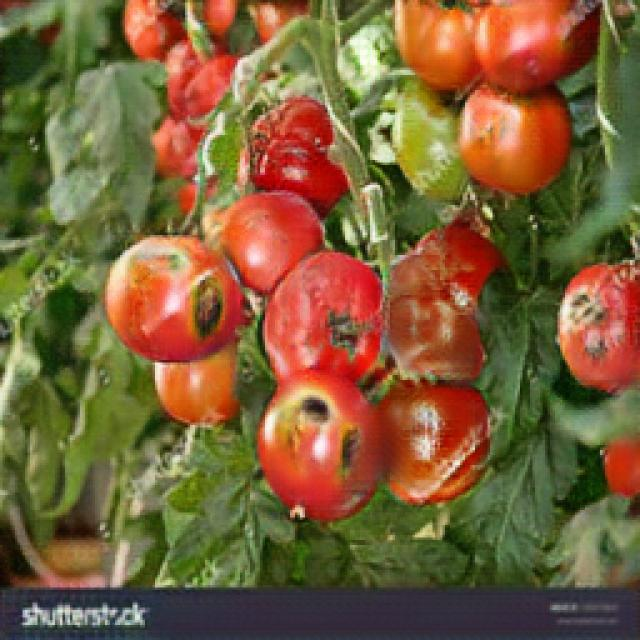overripe tomato: (391, 226, 520, 382), (259, 373, 379, 525), (104, 234, 238, 358), (265, 255, 380, 385), (248, 98, 350, 213), (456, 82, 565, 189), (555, 267, 639, 388)
